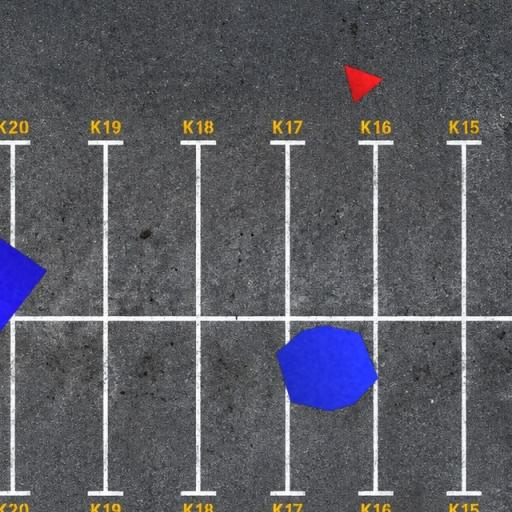BLUE_SQUARE: (0, 206, 48, 356)
